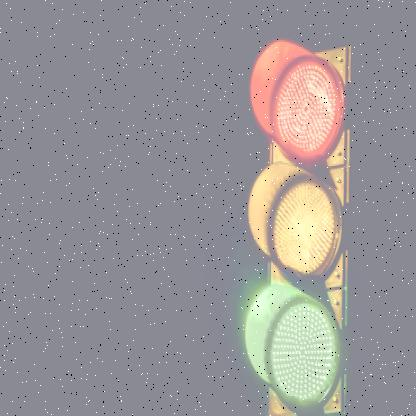trafficlight: (233, 31, 364, 414)
